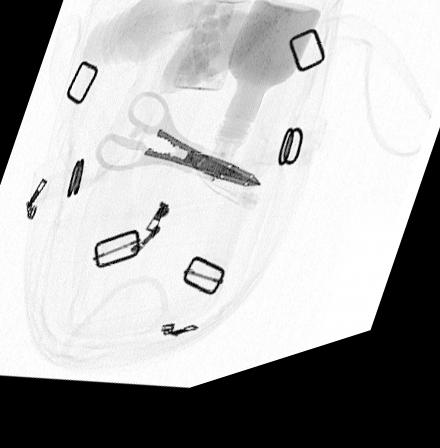Scissors: (91, 98, 263, 203)
